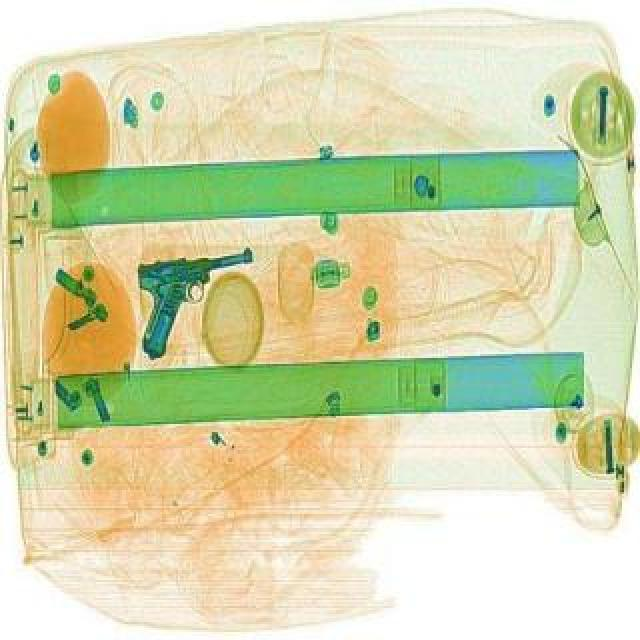gun: (112, 234, 276, 358)
